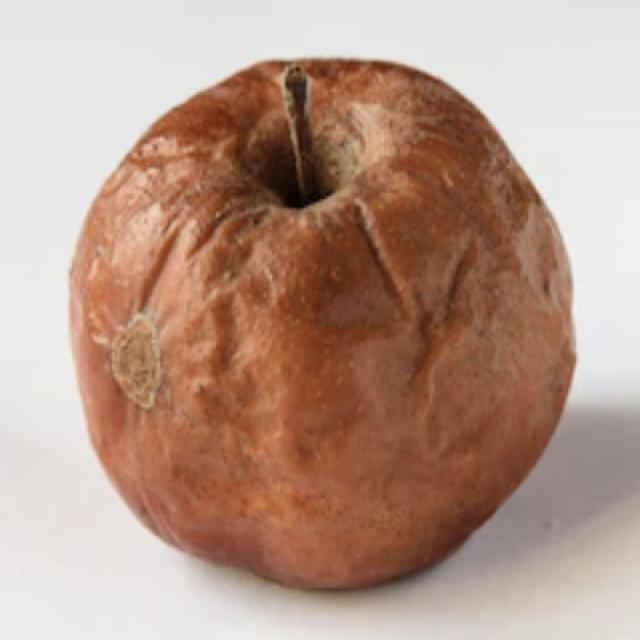rotten_apple: (70, 49, 570, 592)
